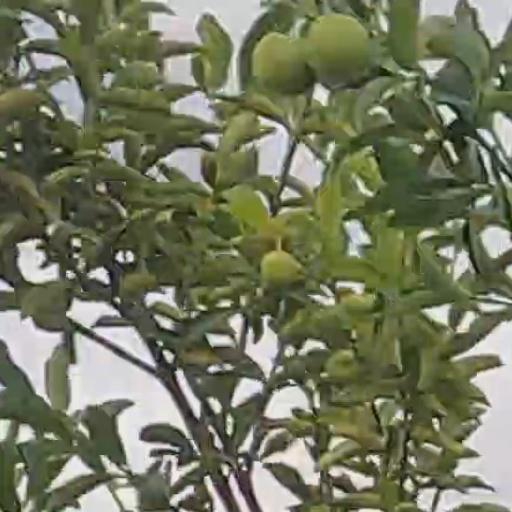acerola: (309, 18, 369, 83), (252, 33, 311, 93), (263, 253, 301, 284)
